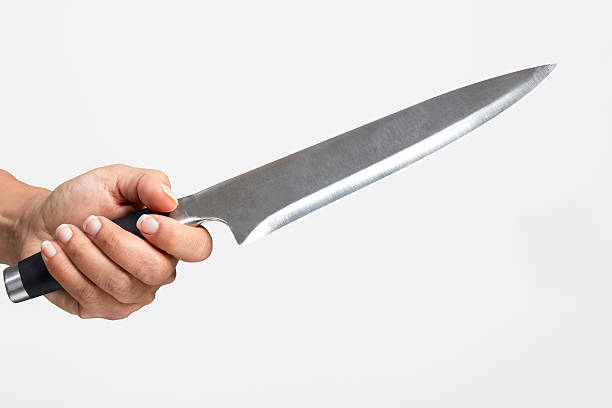knife: (3, 65, 557, 305)
